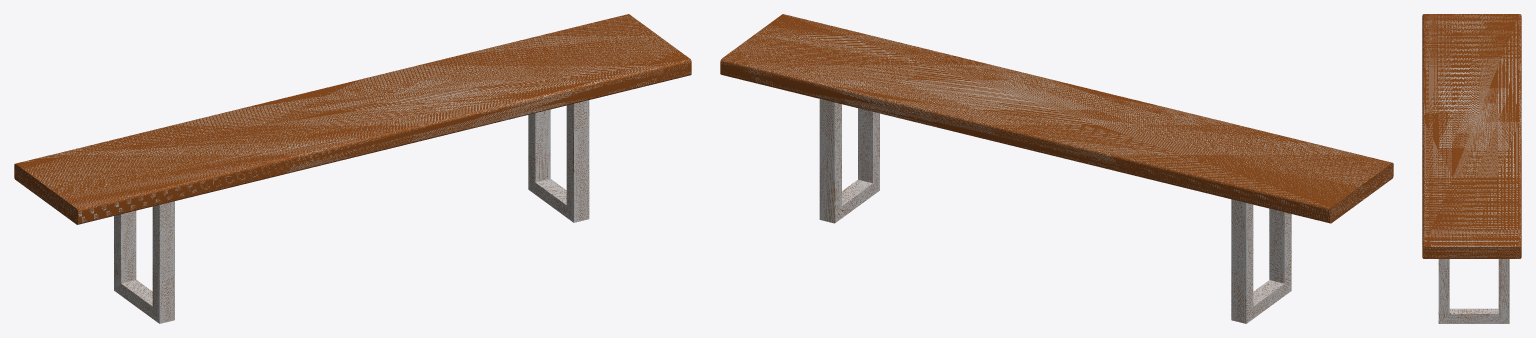
3 renders of one model, left to right at view 1: azimuth 30°, elevation 25°; view 2: azimuth 150°, elevation 25°; view 3: azimuth 270°, elevation 25°, orthographic. The views are drawn at different scales.
Parts seen in each view (by area): view 1: mesh5_mesh5-geometry, mesh3_mesh3-geometry; view 2: mesh5_mesh5-geometry, mesh3_mesh3-geometry; view 3: mesh5_mesh5-geometry, mesh3_mesh3-geometry.
Boxes of the visible parts, box(x1,y1,x2,y2) form: mesh5_mesh5-geometry: box(14, 14, 691, 224); mesh3_mesh3-geometry: box(114, 100, 589, 323); mesh5_mesh5-geometry: box(720, 14, 1393, 223); mesh3_mesh3-geometry: box(819, 99, 1291, 323); mesh5_mesh5-geometry: box(1422, 14, 1521, 258); mesh3_mesh3-geometry: box(1438, 259, 1509, 323).
Size of the model in its own units: 0.9609 by 0.2162 by 0.173.
